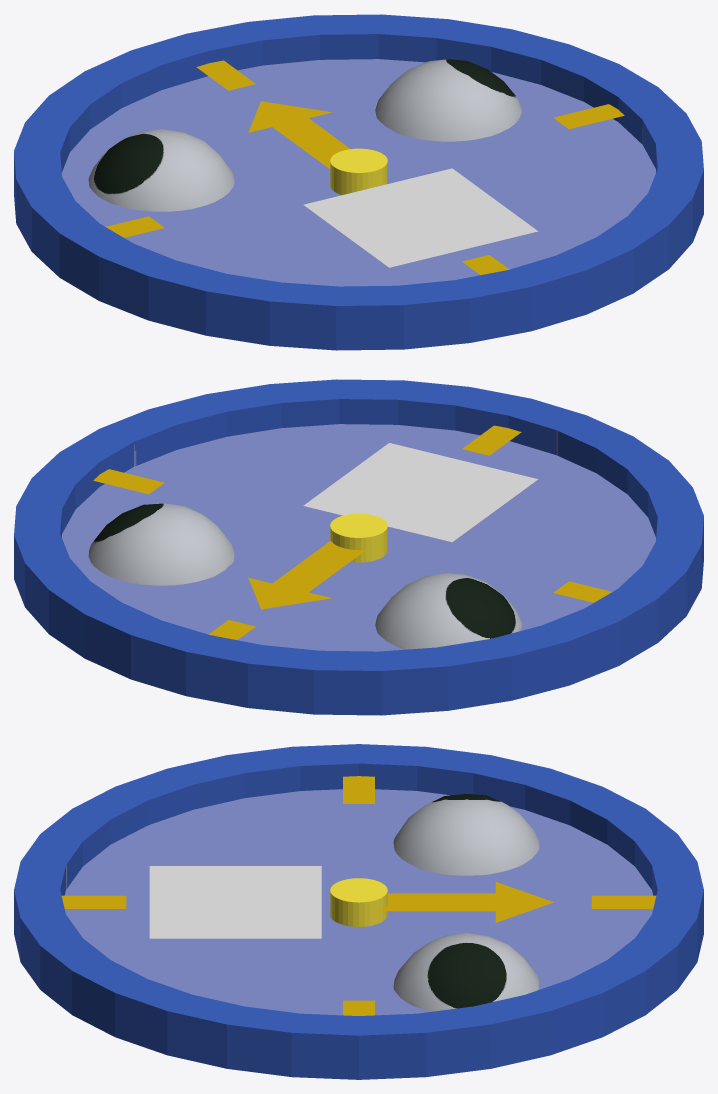
Rendered from Clock.glb.
3 renders of one model, top to bottom at view 1: azimuth 30°, elevation 25°; view 2: azimuth 150°, elevation 25°; view 3: azimuth 270°, elevation 25°, orthographic.
Parts seen in each view (by area): view 1: ClockBody, Plane, ClockEyeL, ClockEyeR, ClockLines, Arrow, ClockCenter; view 2: ClockBody, Plane, ClockEyeL, ClockEyeR, Arrow, ClockLines, ClockCenter; view 3: ClockBody, Plane, ClockEyeR, ClockEyeL, Arrow, ClockLines, ClockCenter.
Boxes of the visible parts, x1,y1,x2,y2 form: ClockBody: [14, 14, 703, 350]; Plane: [303, 168, 538, 267]; ClockEyeL: [375, 59, 521, 141]; ClockEyeR: [88, 129, 234, 211]; ClockLines: [106, 60, 624, 275]; Arrow: [248, 101, 350, 168]; ClockCenter: [330, 148, 387, 194]; ClockBody: [14, 379, 703, 715]; Plane: [303, 443, 538, 542]; ClockEyeL: [88, 503, 234, 585]; ClockEyeR: [375, 573, 521, 649]; Arrow: [248, 541, 366, 609]; ClockLines: [93, 425, 611, 640]; ClockCenter: [330, 513, 387, 562]; ClockBody: [14, 744, 703, 1079]; Plane: [149, 866, 321, 938]; ClockEyeR: [393, 794, 539, 875]; ClockEyeL: [393, 933, 539, 1011]; Arrow: [379, 882, 553, 922]; ClockLines: [61, 776, 656, 1015]; ClockCenter: [330, 878, 387, 926].
Size of the model in its own units: 2 by 0.2044 by 2.
Materials: 4 (2 with a texture image).
